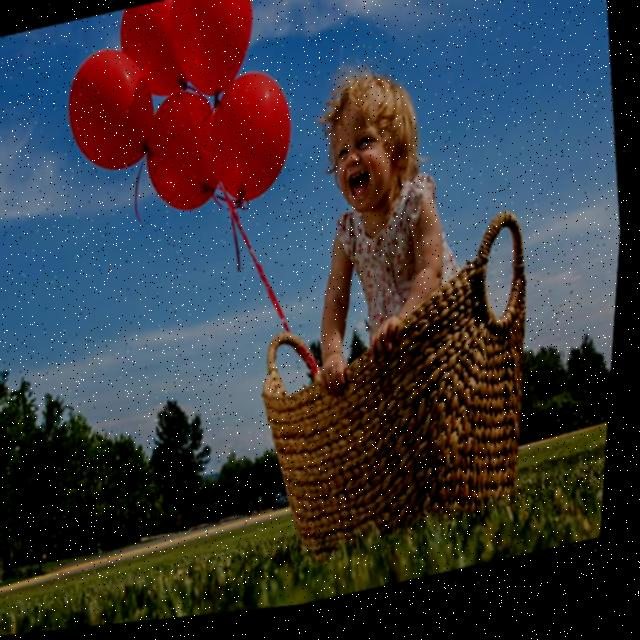balloon: (60, 37, 163, 177), (204, 73, 298, 205), (144, 91, 225, 219), (166, 0, 266, 103), (113, 0, 198, 112)
